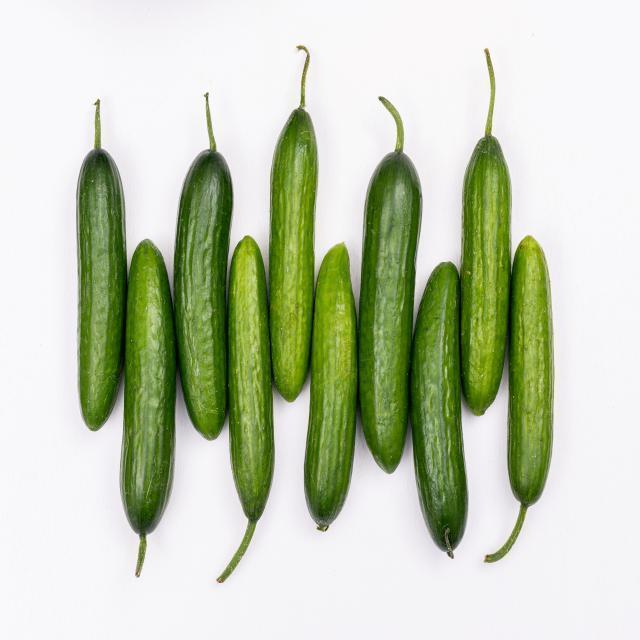cucumber: (122, 236, 177, 536), (365, 152, 414, 476), (173, 150, 226, 442), (76, 142, 126, 428), (230, 231, 278, 519), (270, 105, 317, 396), (421, 263, 468, 551), (310, 238, 354, 524), (461, 135, 506, 410), (512, 236, 556, 502)
